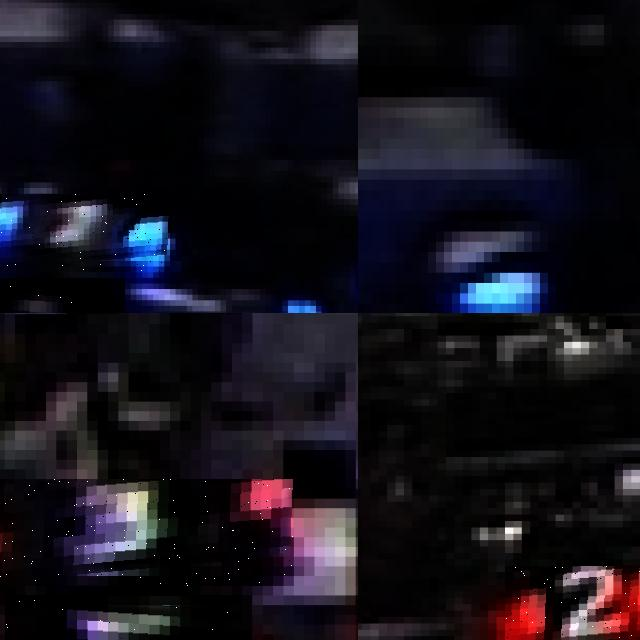B1: (0, 193, 170, 272), (0, 277, 125, 313)
R2: (505, 565, 640, 640)
R3: (0, 479, 293, 585), (4, 595, 252, 640)
